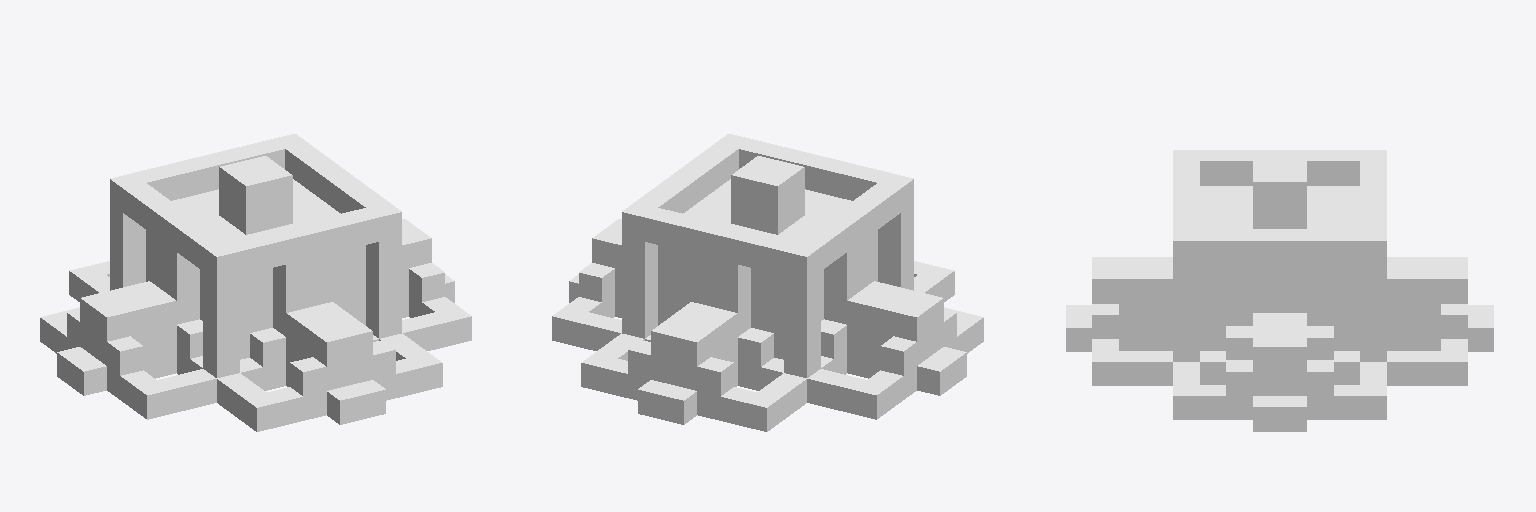
File: Turret1Bot.obj
3 renders of one model, left to right at view 1: azimuth 30°, elevation 25°; view 2: azimuth 150°, elevation 25°; view 3: azimuth 270°, elevation 25°, orthographic.
Parts seen in each view (by area): view 1: object 1; view 2: object 1; view 3: object 1.
Part boxes in pixels (x1,y1,x2,y2): object 1: (40, 134, 471, 431); object 1: (552, 134, 983, 431); object 1: (1066, 150, 1493, 431).
Size of the model in its own units: 1.6 by 0.7 by 1.6.